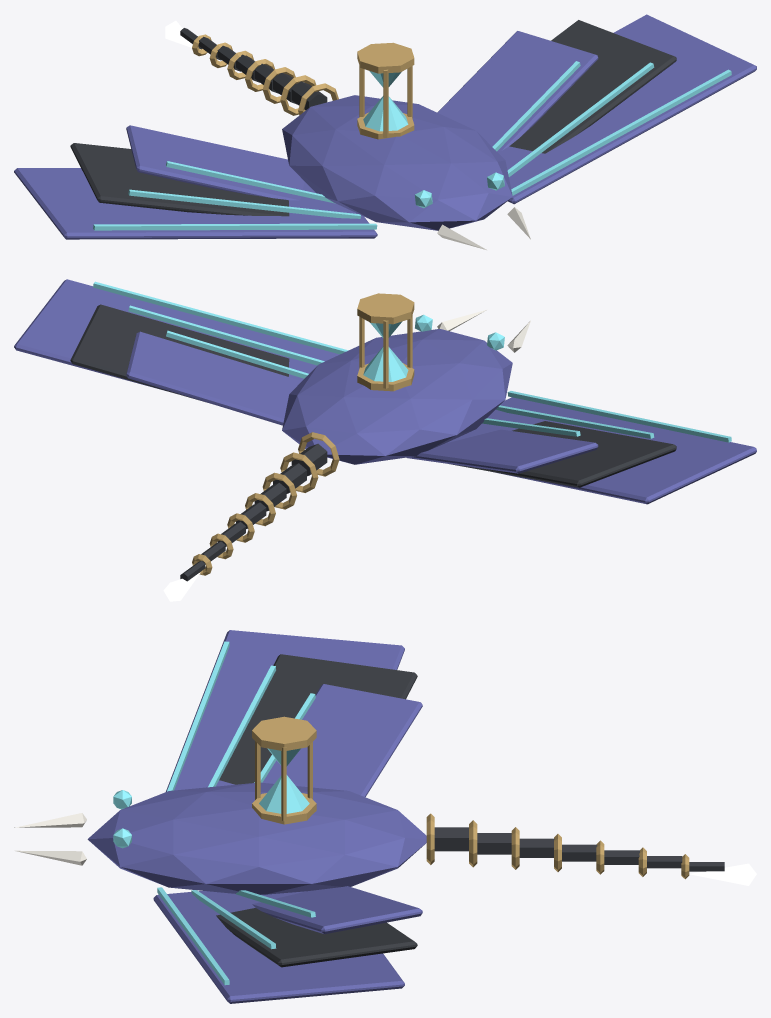
File: Raie_Temps.fbx
The picture shows the model from 3 angles, top to bottom: view 1: azimuth 30°, elevation 25°; view 2: azimuth 150°, elevation 25°; view 3: azimuth 270°, elevation 25°; orthographic projection. The views are drawn at different scales.
Visible parts, largest first — view 1: Raie_Temps_Indigo, Raie_Temps_Metal, Raie_Temps_Noyau, Raie_Temps_Laiton, Raie_Temps_Ivoire; view 2: Raie_Temps_Indigo, Raie_Temps_Metal, Raie_Temps_Noyau, Raie_Temps_Laiton, Raie_Temps_Ivoire; view 3: Raie_Temps_Indigo, Raie_Temps_Metal, Raie_Temps_Noyau, Raie_Temps_Laiton, Raie_Temps_Ivoire, Raie_Temps_Cristal.
Boxes of the visible parts, x1,y1,x2,y2 form: Raie_Temps_Indigo: (14,14,756,239); Raie_Temps_Metal: (70,20,676,216); Raie_Temps_Noyau: (93,61,731,230); Raie_Temps_Laiton: (192,34,414,139); Raie_Temps_Ivoire: (437,207,530,249); Raie_Temps_Indigo: (14,279,756,504); Raie_Temps_Metal: (70,304,676,581); Raie_Temps_Noyau: (93,281,731,442); Raie_Temps_Laiton: (192,293,414,575); Raie_Temps_Ivoire: (437,309,530,352); Raie_Temps_Indigo: (87,630,426,1003); Raie_Temps_Metal: (216,654,724,967); Raie_Temps_Noyau: (113,641,315,985); Raie_Temps_Laiton: (252,716,689,879); Raie_Temps_Ivoire: (14,813,86,865); Raie_Temps_Cristal: (689,863,756,885).
Bounding box in the file's own units: 865 × 168 × 736.
